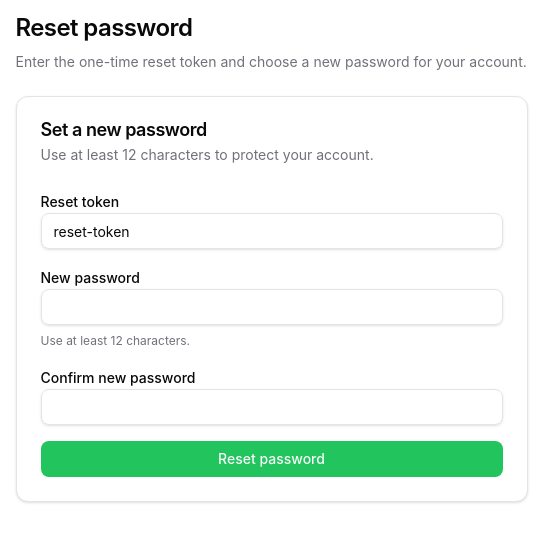
Test: AccountResetPage › shows the rate-limit message when too many reset attempts occur
Type "longenoughpassword123" into the password field labelled "New password" at (272, 307), box [40, 289, 502, 325]
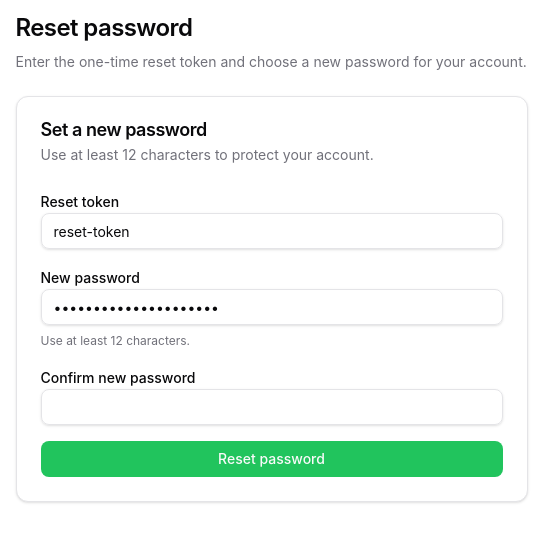
Type "longenoughpassword123" into the password field labelled "Confirm new password" at (272, 407), box [40, 389, 502, 425]
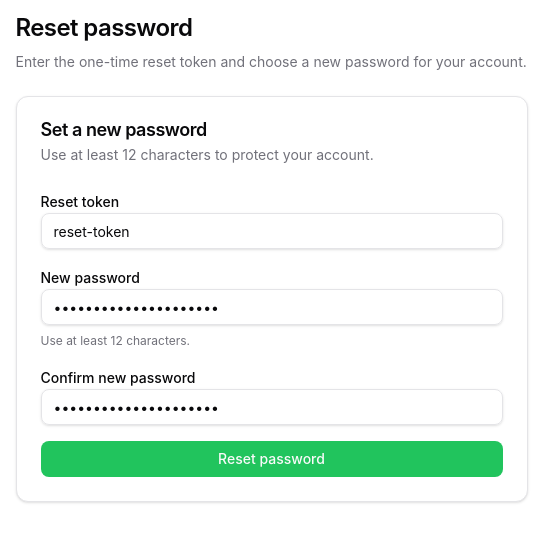
Click the button "Reset password" at (272, 459), box [40, 441, 502, 477]
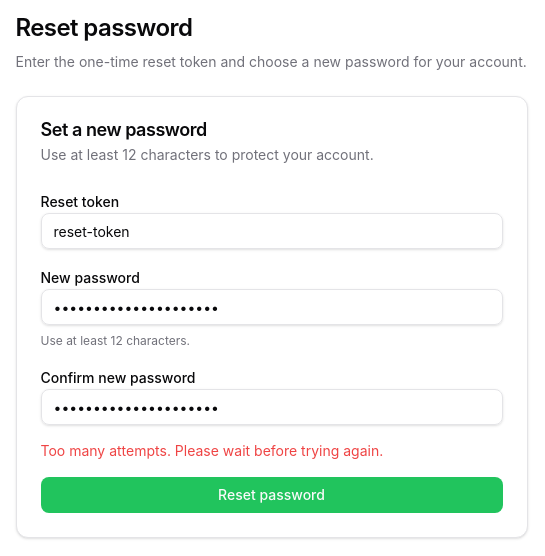
Now the message reads "Too many attempts. Please wait before trying again.", box [40, 442, 383, 459]
